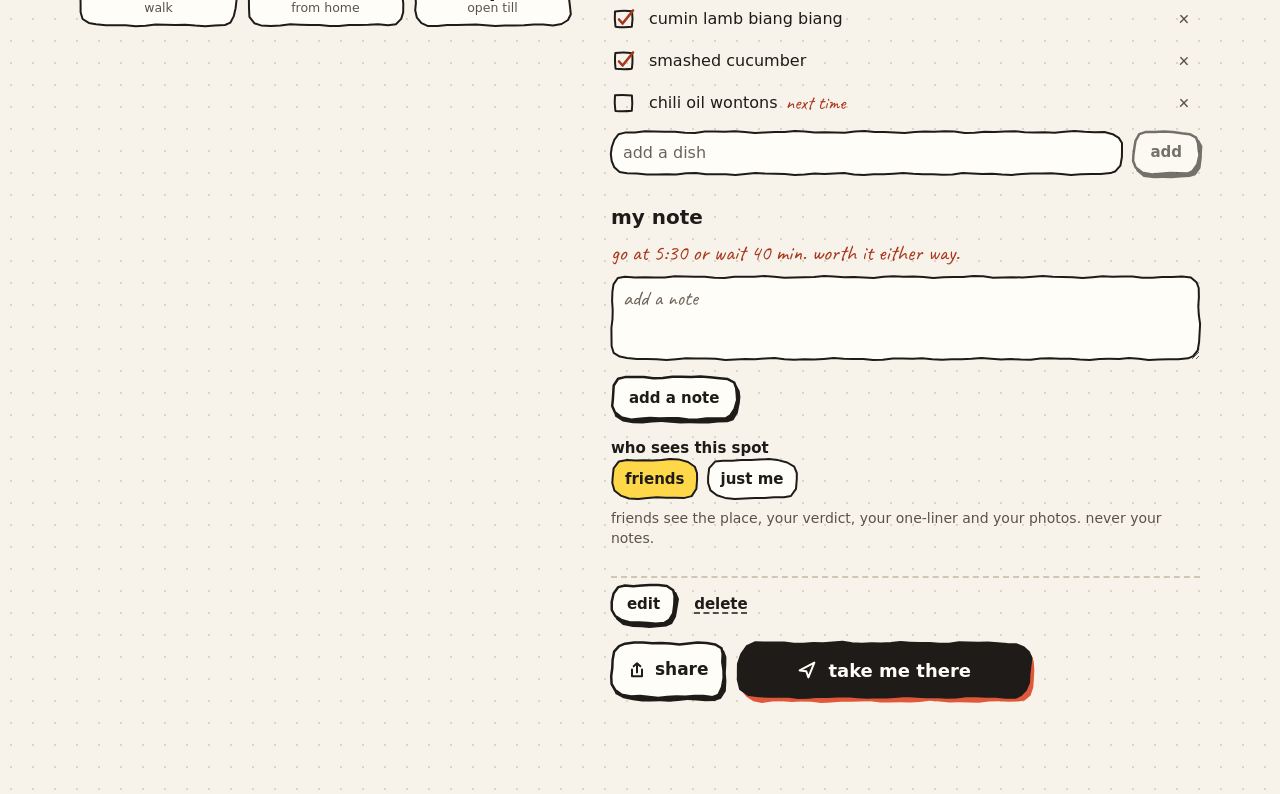
Test: on the place page › add a note: appended under the old ones, dated
(page scrolled)
Click the button "add a note": {"x": 674, "y": 398} [611,376,737,420]
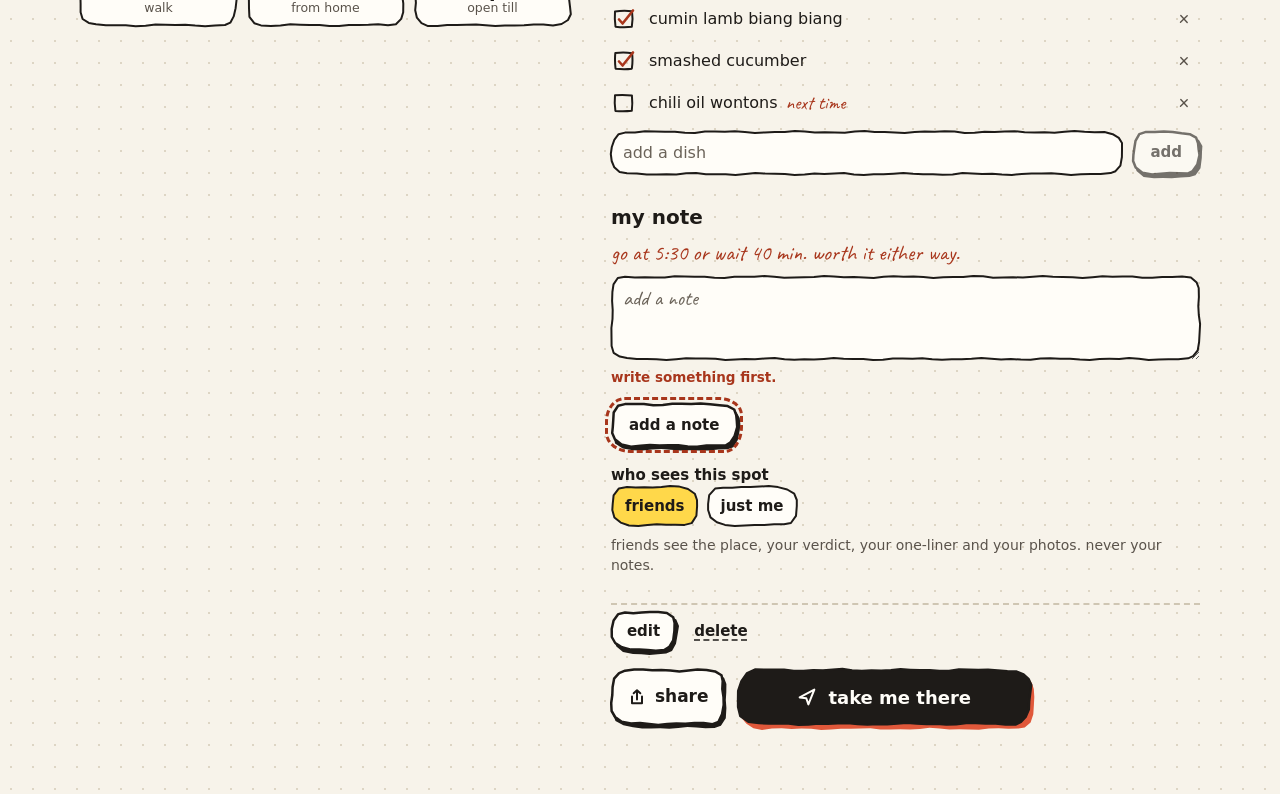
Result: the message reads "write something first." at [611,369,776,385]
In the text box named "New note": {"x": 905, "y": 318} [611,276,1200,360], type "wontons were the star"
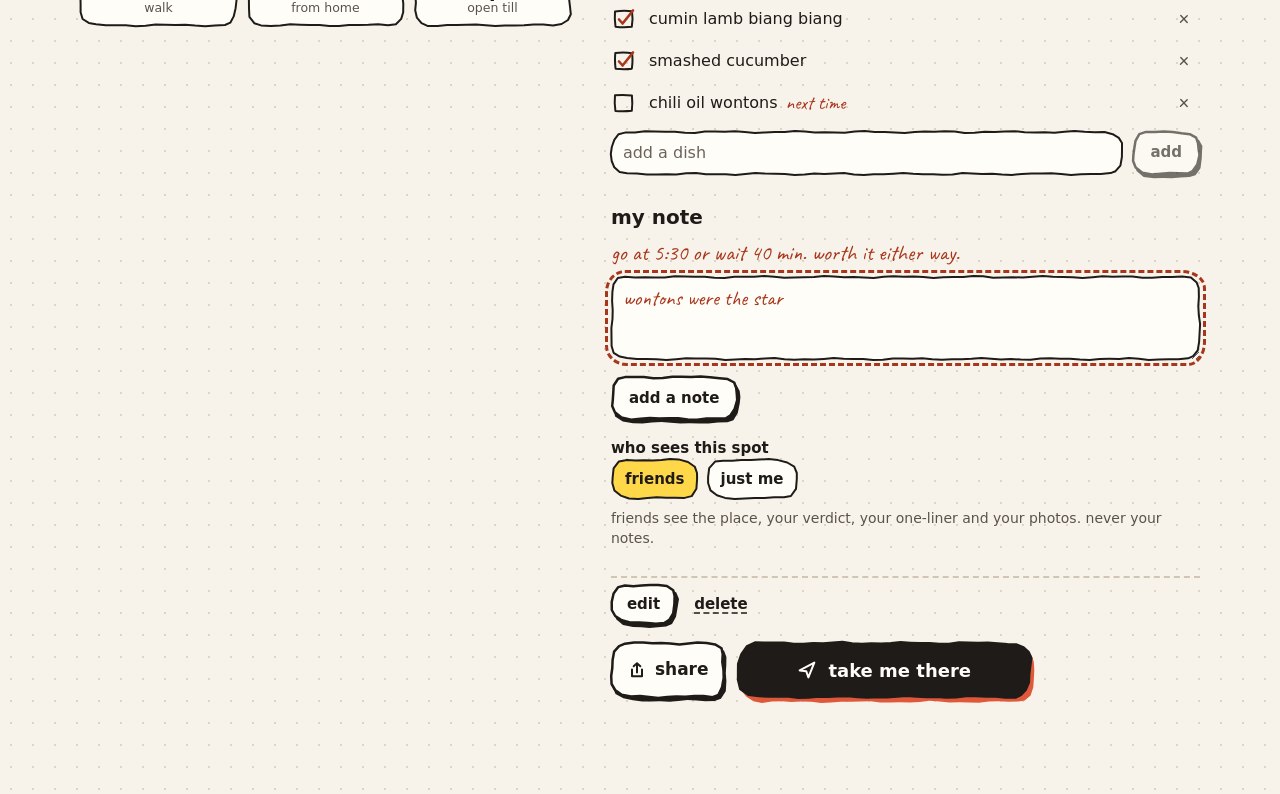
Click the button "add a note": {"x": 674, "y": 398} [611,376,737,420]
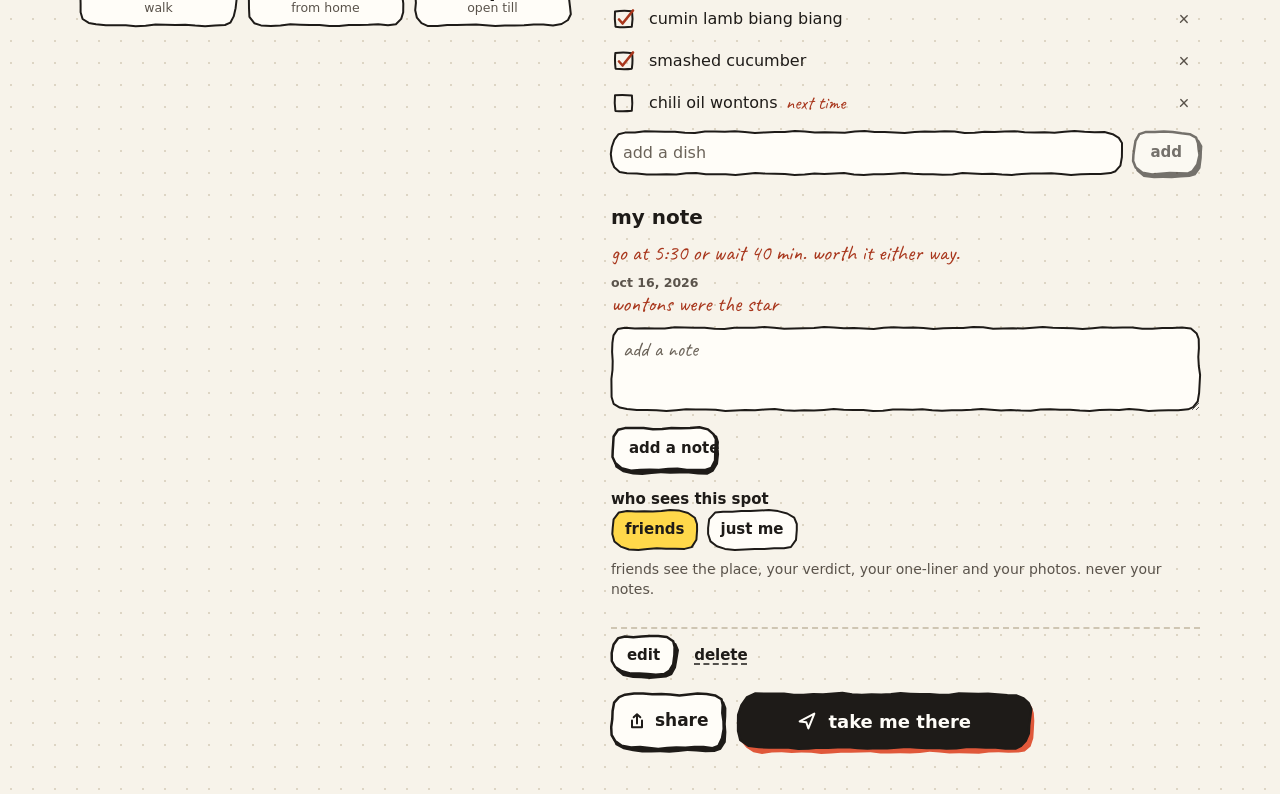
Expected: the list item "go at 5:30 or wait 40 min. worth it either way." is shown, [611,239,960,267]
Result: the list item "oct 16, 2026 wontons were the star" is shown at [611,275,778,318]
Result: the text box named "New note" is empty at [611,327,1200,411]
